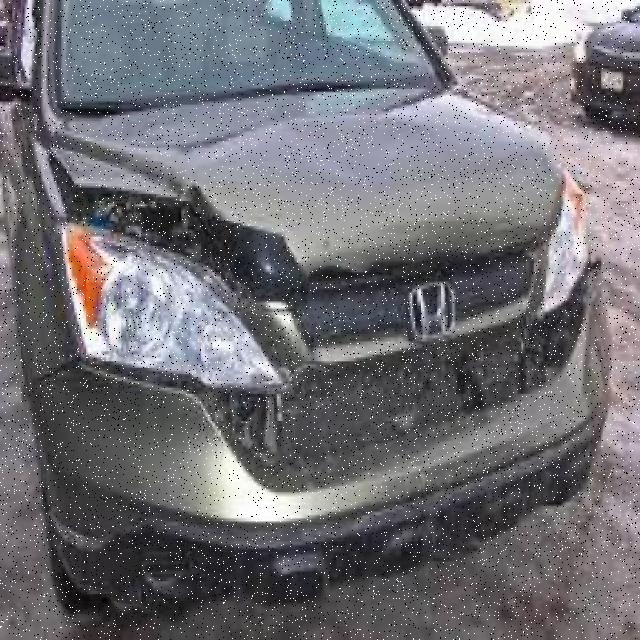damage: (49, 126, 304, 310)
